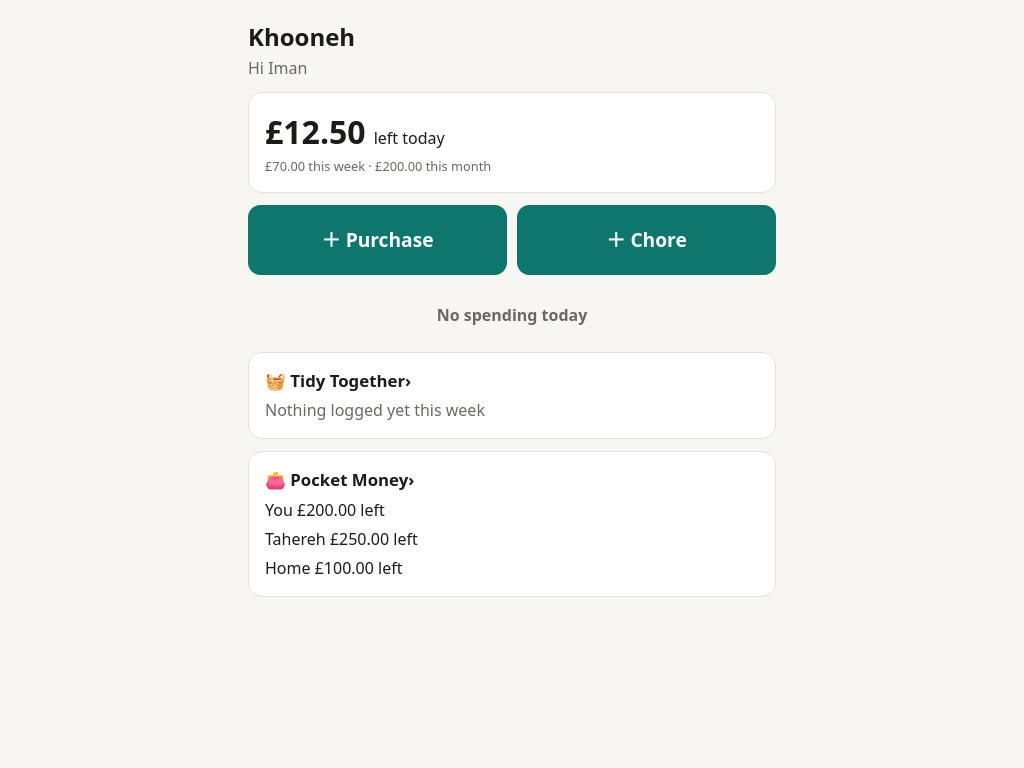
Test: ＋ Purchase opens the sheet; No spending today logs a £0 check-in
Click the button "No spending today": (512, 315) [248, 291, 776, 340]
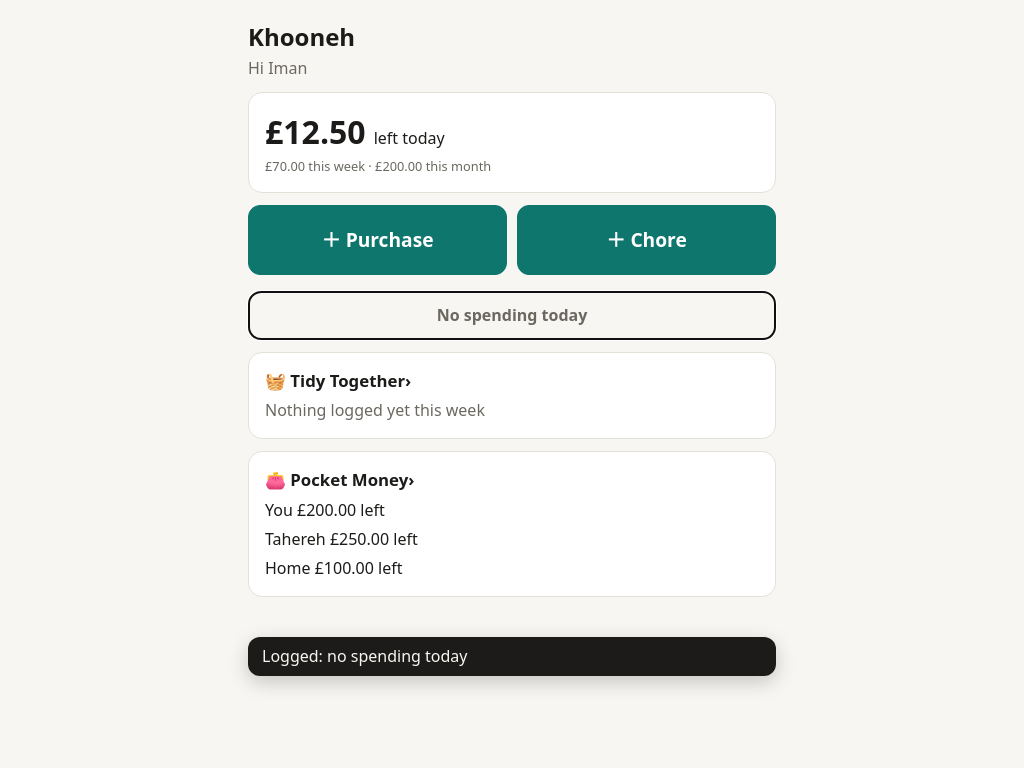
Expected: the message reads "Logged: no spending today", [262, 645, 468, 667]
Click the button "＋ Purchase": (378, 240) [248, 205, 507, 275]
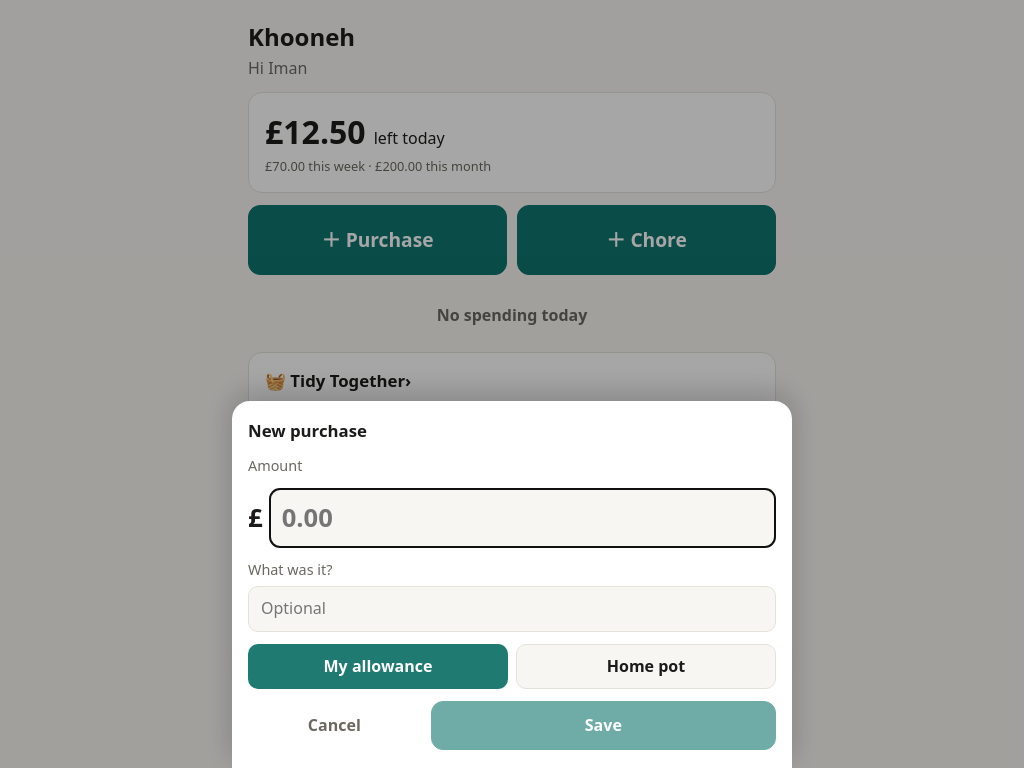
Expected: the dialog "New purchase" is shown, [232, 401, 792, 767]
